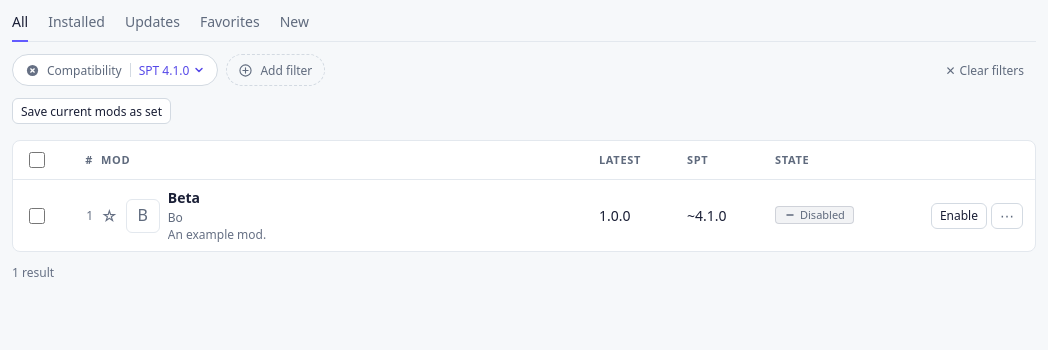
Test: bulk actions › names every mod the bulk run could not change
Click the checkbox named "Select Beta".
click(37, 216)  # box [29, 208, 45, 224]
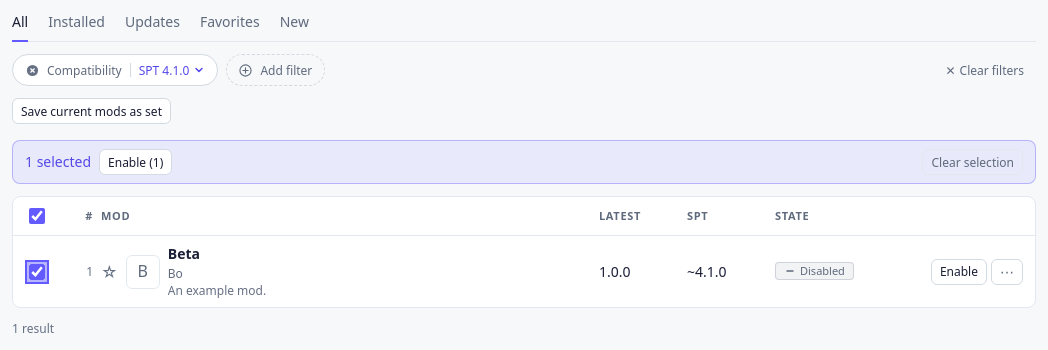
Click the button "Enable (1)".
click(136, 162)  # box [99, 149, 172, 175]
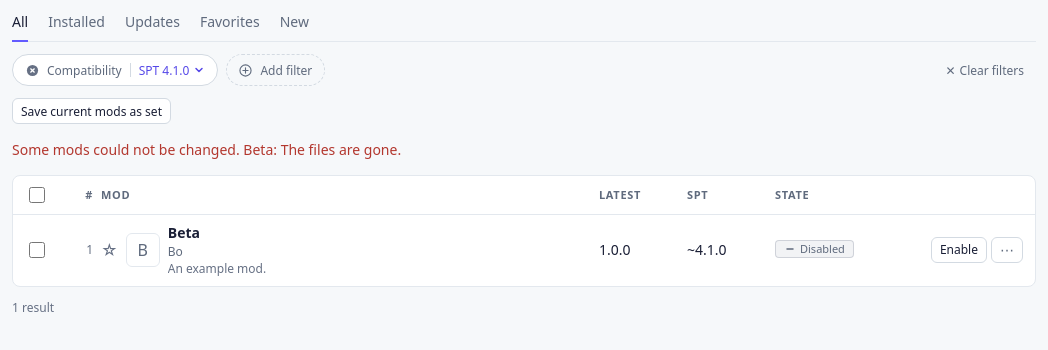
Now the text "Some mods could not be changed. Beta: The files are gone." is shown, box [12, 140, 401, 159]
